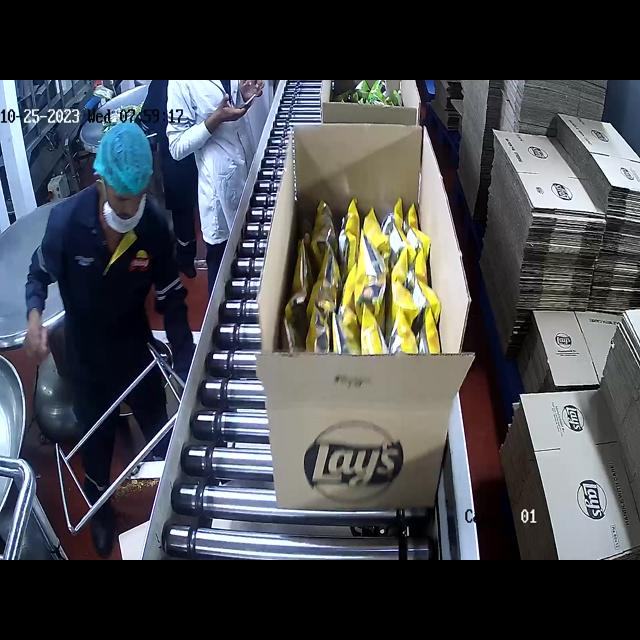salted: (315, 190, 438, 372)
yogurt: (344, 81, 399, 106)
